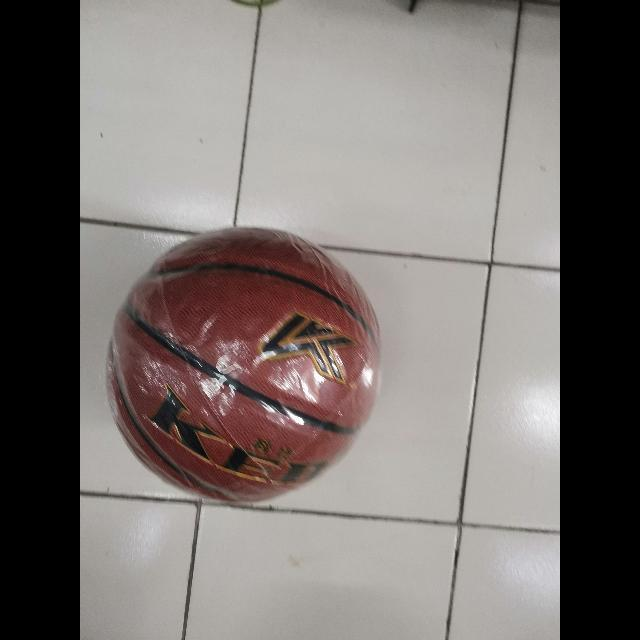basketball: (109, 229, 373, 501)
